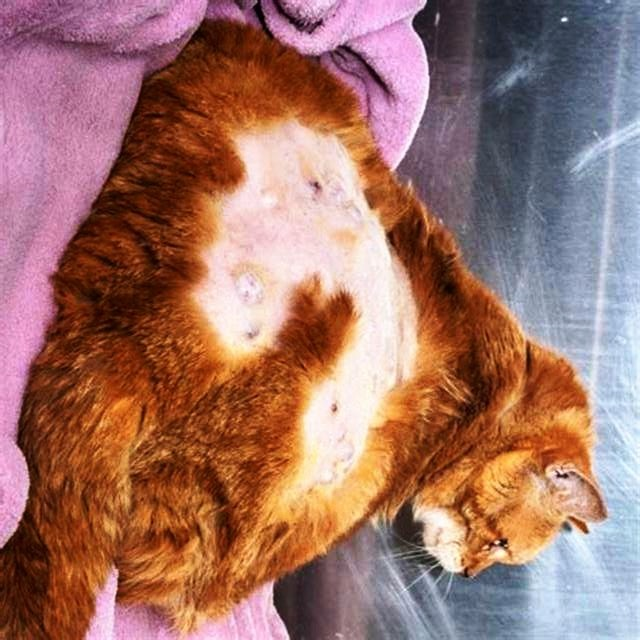hairloss: (232, 144, 423, 471)
